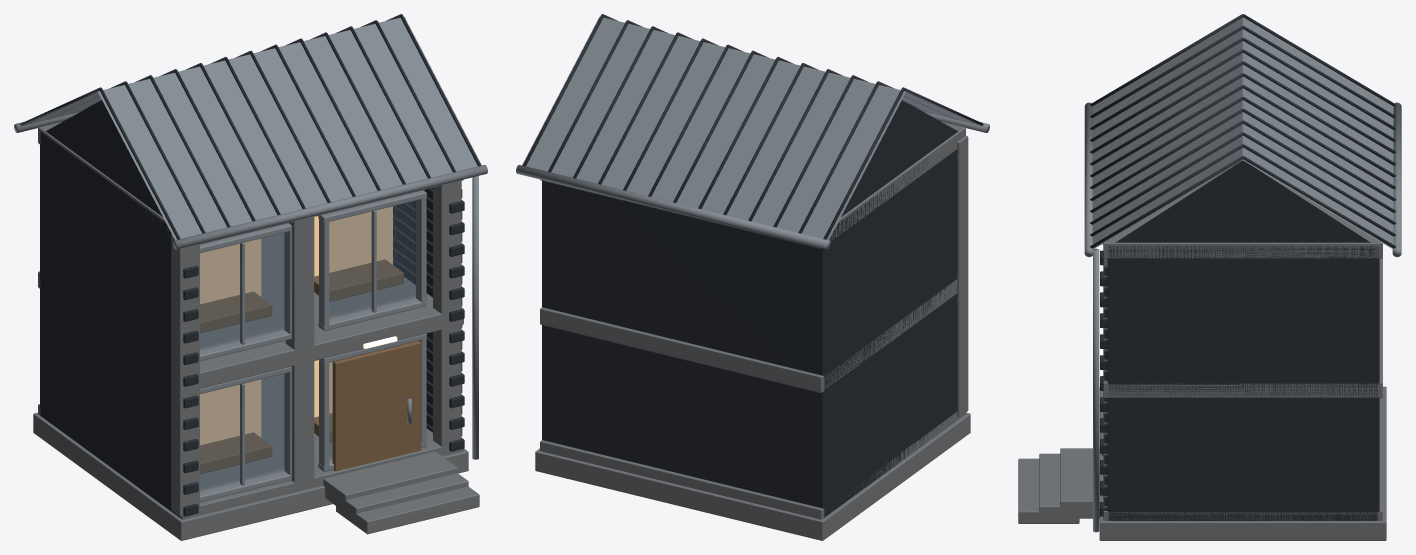
The model's file is neighborhood.glb.
3 views of the same model, side by side, from view 1: azimuth 30°, elevation 25°; view 2: azimuth 150°, elevation 25°; view 3: azimuth 270°, elevation 25° (orthographic). The views are drawn at different scales.
Visible parts, largest first — view 1: body_steel.046, body_concrete.016, body_dark.045, body_glass.014, body_wood.006, body_window.006, body_dark.046, body_steel.047; view 2: body_dark.045, body_steel.046, body_concrete.016, body_dark.046, body_steel.047; view 3: body_dark.045, body_steel.046, body_concrete.016, body_dark.046, body_steel.047.
Part boxes in pixels (left/top/right/bottom): body_steel.046: left=20, top=16, right=481, bottom=502; body_concrete.016: left=33, top=121, right=479, bottom=540; body_dark.045: left=40, top=100, right=464, bottom=517; body_glass.014: left=200, top=201, right=415, bottom=489; body_wood.006: left=200, top=259, right=421, bottom=474; body_window.006: left=200, top=206, right=392, bottom=445; body_dark.046: left=20, top=14, right=480, bottom=239; body_steel.047: left=14, top=112, right=487, bottom=459; body_dark.045: left=542, top=100, right=957, bottom=517; body_steel.046: left=522, top=16, right=983, bottom=240; body_concrete.016: left=535, top=121, right=970, bottom=540; body_dark.046: left=523, top=14, right=983, bottom=239; body_steel.047: left=516, top=112, right=989, bottom=249; body_dark.045: left=1100, top=160, right=1379, bottom=520; body_steel.046: left=1092, top=17, right=1393, bottom=249; body_concrete.016: left=1018, top=166, right=1386, bottom=540; body_dark.046: left=1090, top=14, right=1396, bottom=248; body_steel.047: left=1084, top=102, right=1401, bottom=532.
Bounding box in the file's own units: 1.98 × 2.45 × 2.19.
